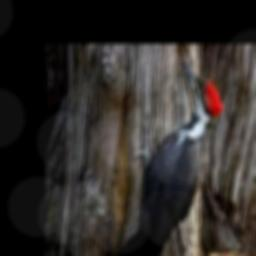Woodpecker: (106, 55, 224, 256)
